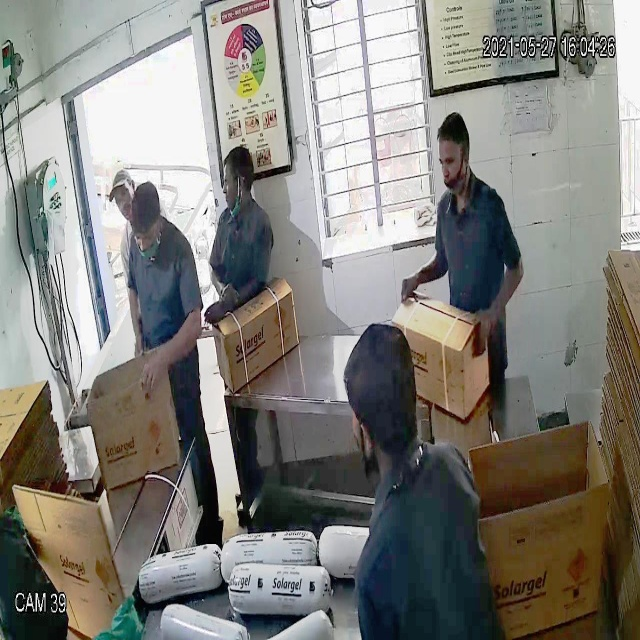Sin_gafas: (435, 145, 470, 179)
